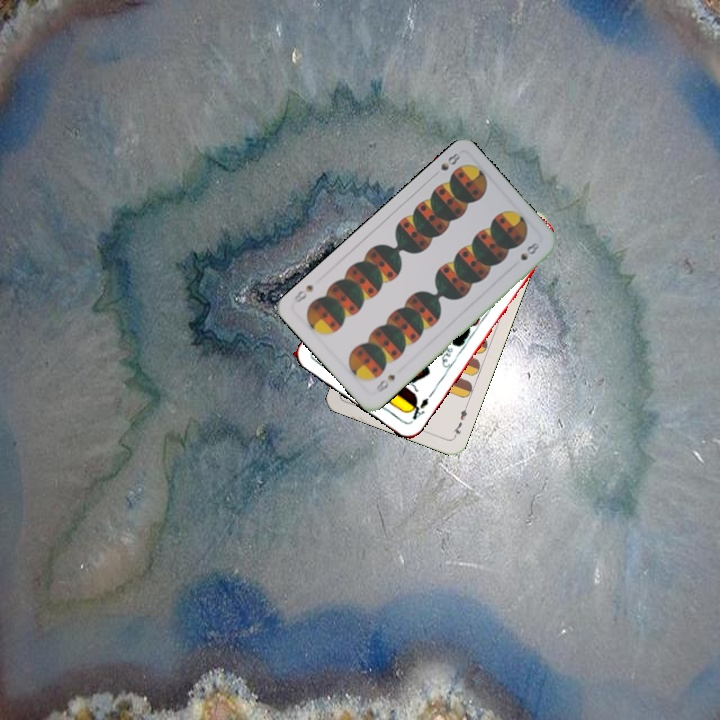E7: (448, 401, 471, 440)
EA: (404, 394, 431, 423)
S8: (428, 148, 463, 180), (372, 370, 398, 395)
